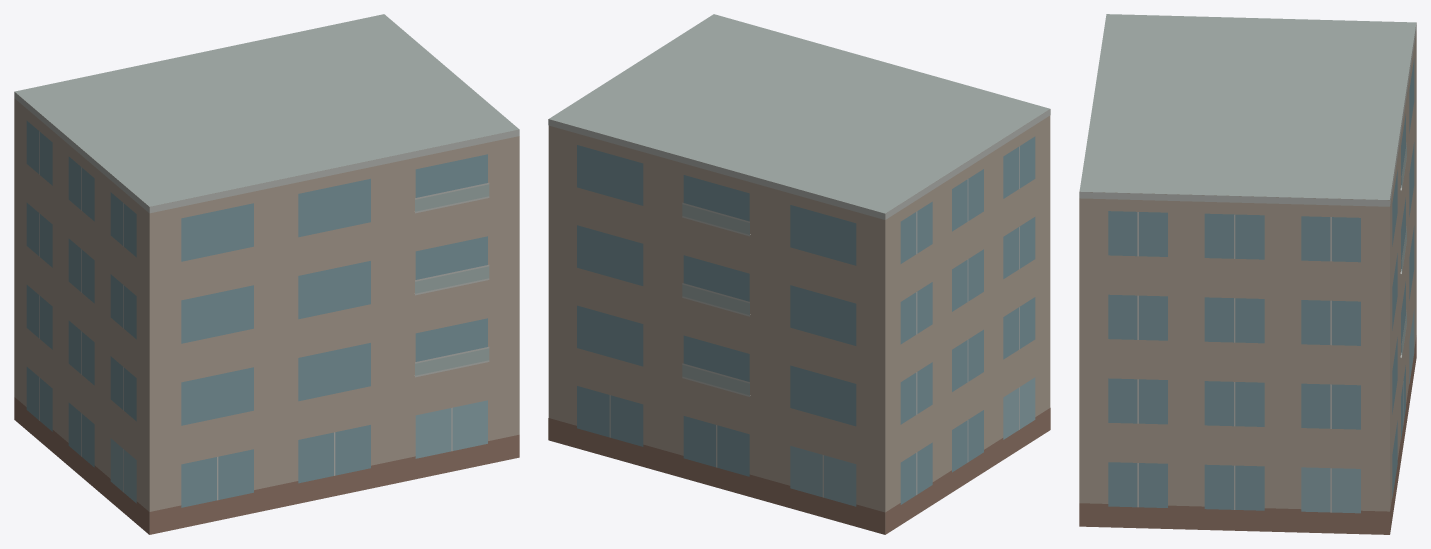
The model's file is residential-d167b7f7-6a50-4118-9f30-97b29197104e.glb.
3 renders of one model, left to right at view 1: azimuth 30°, elevation 25°; view 2: azimuth 150°, elevation 25°; view 3: azimuth 270°, elevation 25°, orthographic. The views are drawn at different scales.
Parts seen in each view (by area): view 1: residential-d167b7f7-6a50-4118-9f30-97b29197104e.tmp; view 2: residential-d167b7f7-6a50-4118-9f30-97b29197104e.tmp; view 3: residential-d167b7f7-6a50-4118-9f30-97b29197104e.tmp.
Boxes of the visible parts, x1,y1,x2,y2 form: residential-d167b7f7-6a50-4118-9f30-97b29197104e.tmp: (14,14,519,534); residential-d167b7f7-6a50-4118-9f30-97b29197104e.tmp: (548,14,1050,534); residential-d167b7f7-6a50-4118-9f30-97b29197104e.tmp: (1079,14,1416,534).
Size of the model in its own units: 14.55 by 12.2 by 11.14.
